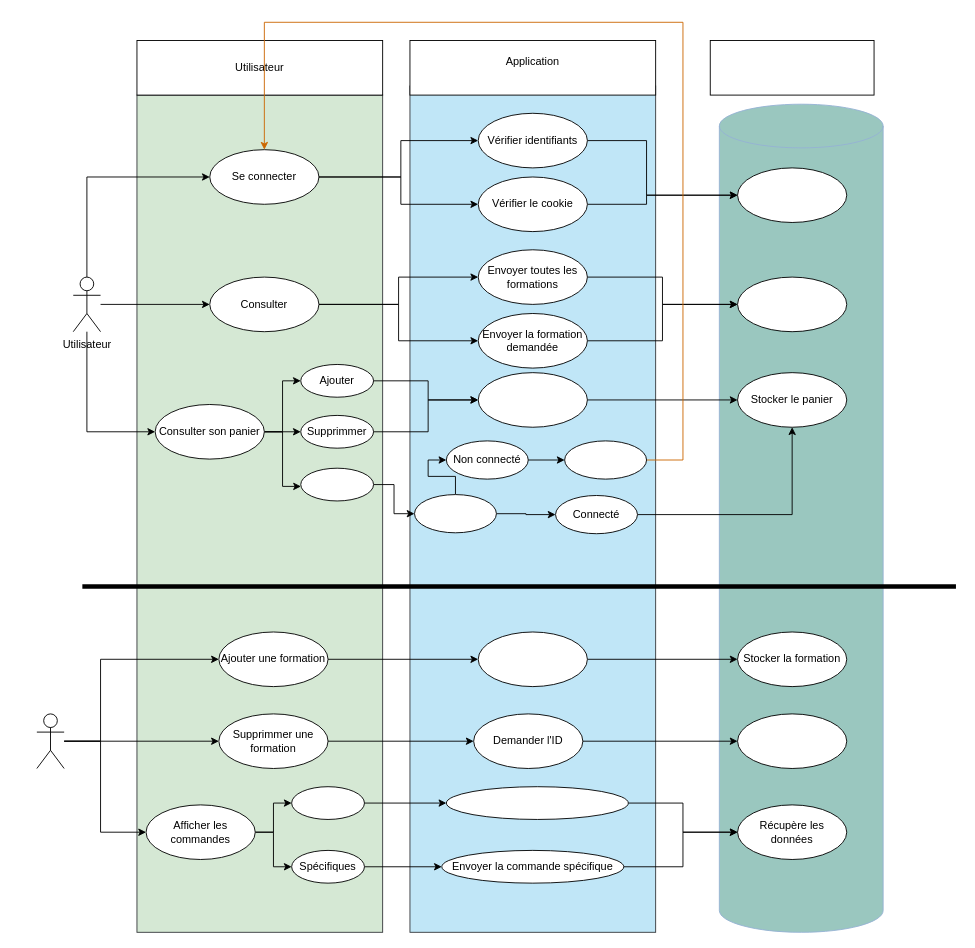
The diagram is 975 pixels wide and 948 high, and some of its shapes have lost their labels. The shapes that lost their labels are listed below. From the top down, each one's centre as x and y in pixels, then its label:
At [791,67]: "Database".
At [792,194]: "Consulter les identifiants".
At [792,304]: "Recherché les informations".
At [532,399]: "Mettre à jour le panier".
At [605,459]: "Sticker panier".
At [337,484]: "Commander".
At [455,513]: "Vérifier".
At [532,659]: "Demander les informations".
At [50,740]: "Administrateur".
At [792,740]: "Supprimme la formation".
At [327,802]: "Toutes".
At [536,802]: "Envoyer toutes les commandes".
